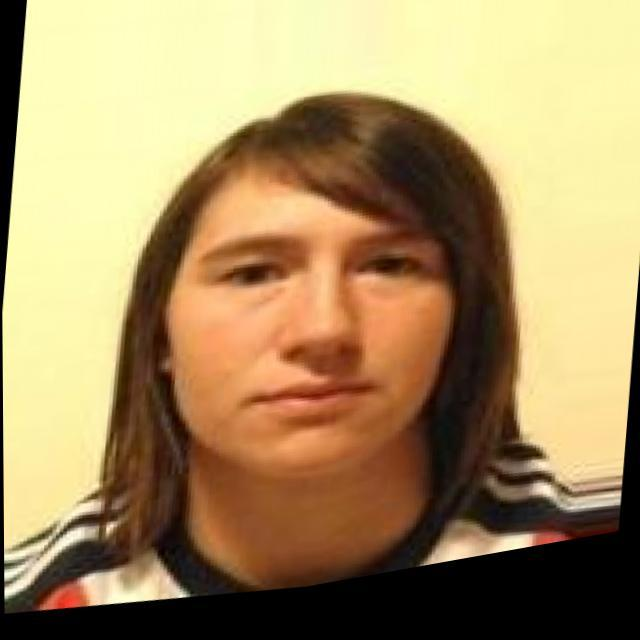Nonhelmet: (94, 87, 523, 564)
